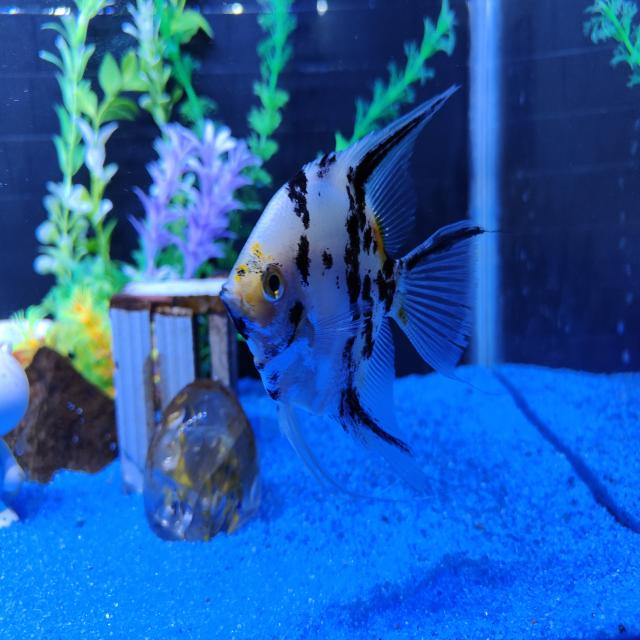Fish: (220, 87, 482, 492)
